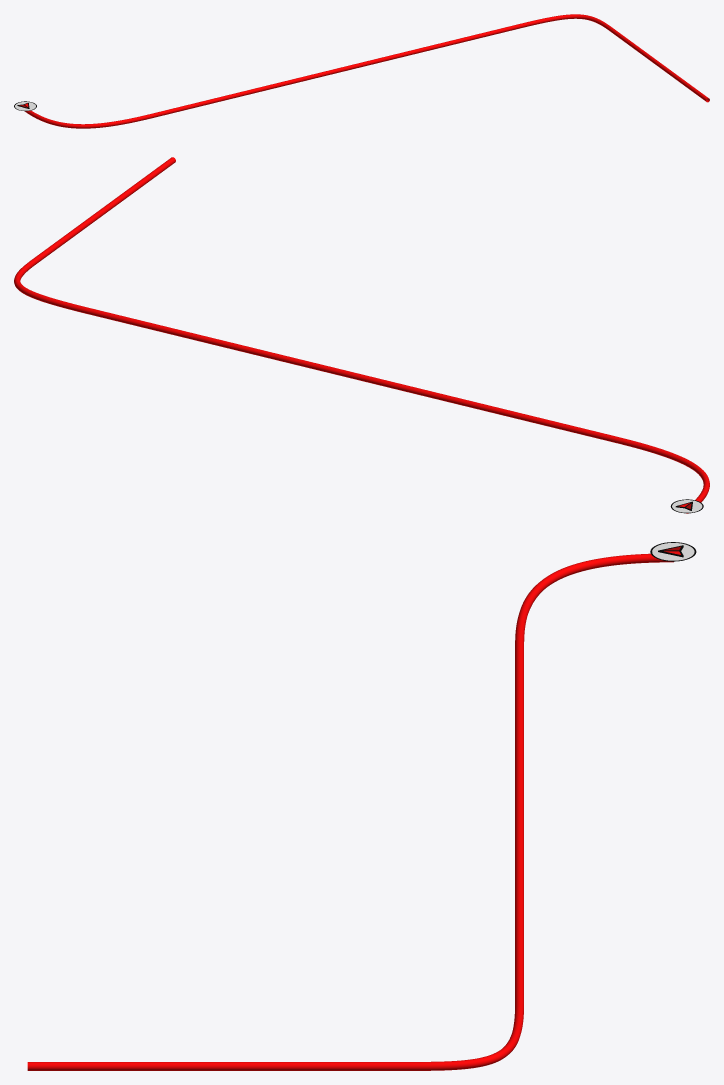
The model's file is route_7b3154a0-008f-489c-a367-cb06b52bceb9_de_target.glb.
3 renders of one model, top to bottom at view 1: azimuth 30°, elevation 25°; view 2: azimuth 150°, elevation 25°; view 3: azimuth 270°, elevation 25°, orthographic. The views are drawn at different scales.
Visible parts, largest first — view 1: Station 5.001; view 2: Station 5.001; view 3: Station 5.001.
Part boxes in pixels (bbox=[...]): Station 5.001: bbox=[25, 14, 709, 128]; Station 5.001: bbox=[14, 157, 709, 513]; Station 5.001: bbox=[27, 553, 673, 1070].
Bounding box in the file's own units: 10.9 × 0.1086 × 5.92.
